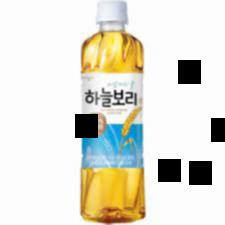haneulbori: (68, 1, 154, 224)
